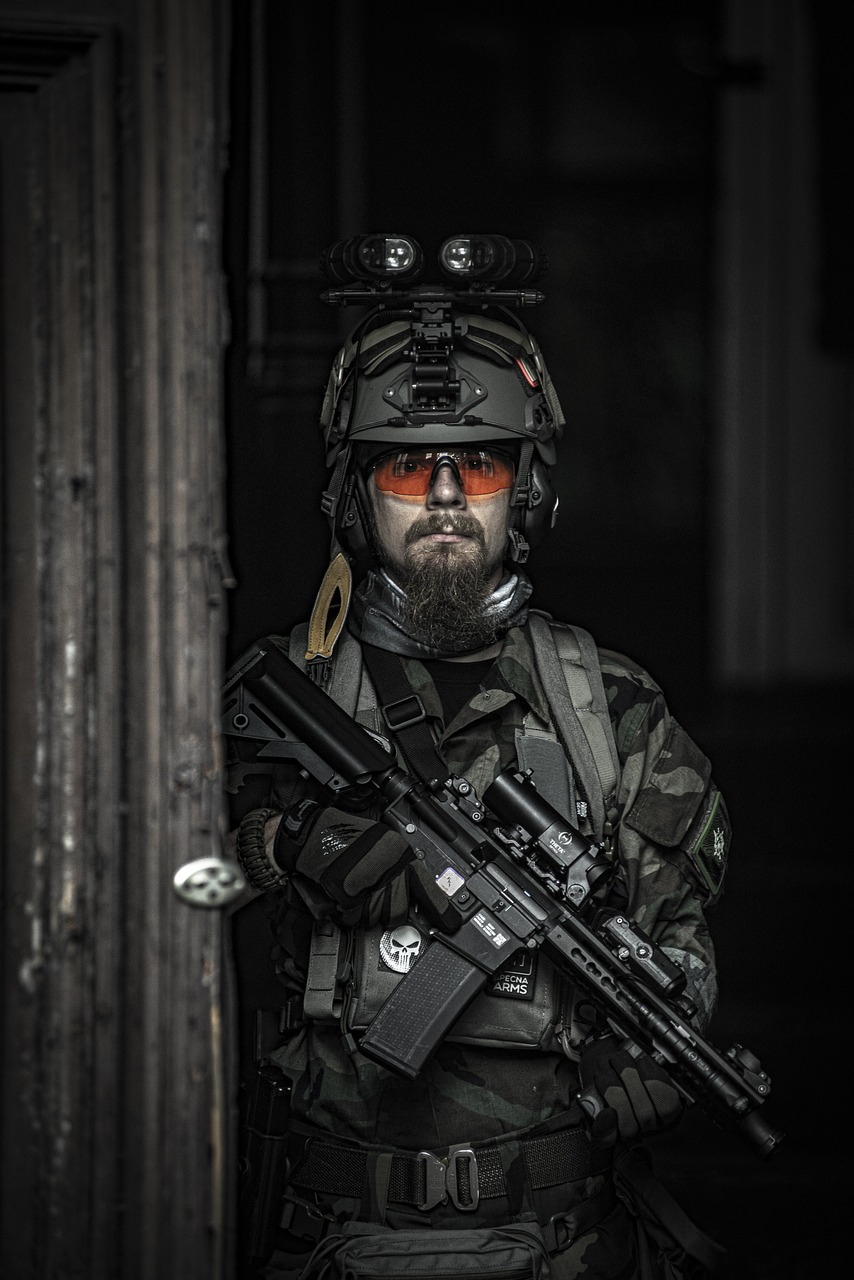gun: (212, 632, 790, 1164)
